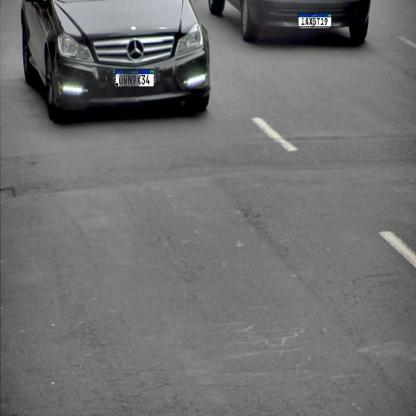PlacaM: (115, 69, 154, 87), (298, 13, 332, 27)
